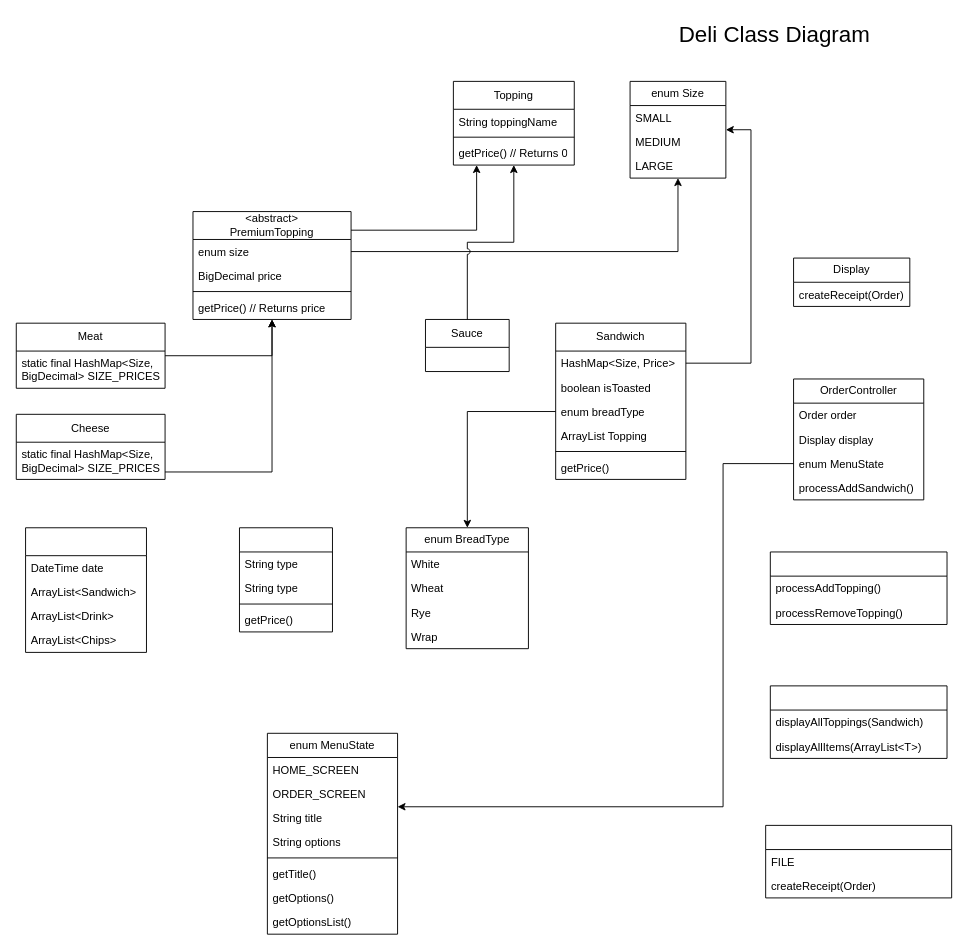
Image size: 968x952. Some labels were removed from this diagram. Here are the shapes that lost their labels. From the top down, the box of each, then its label:
(25, 527, 146, 652): Order
(239, 527, 332, 632): Chips
(769, 551, 947, 624): SandwichFormatService
(769, 685, 947, 758): OrderCalculationService
(765, 824, 952, 898): FileManagementService
